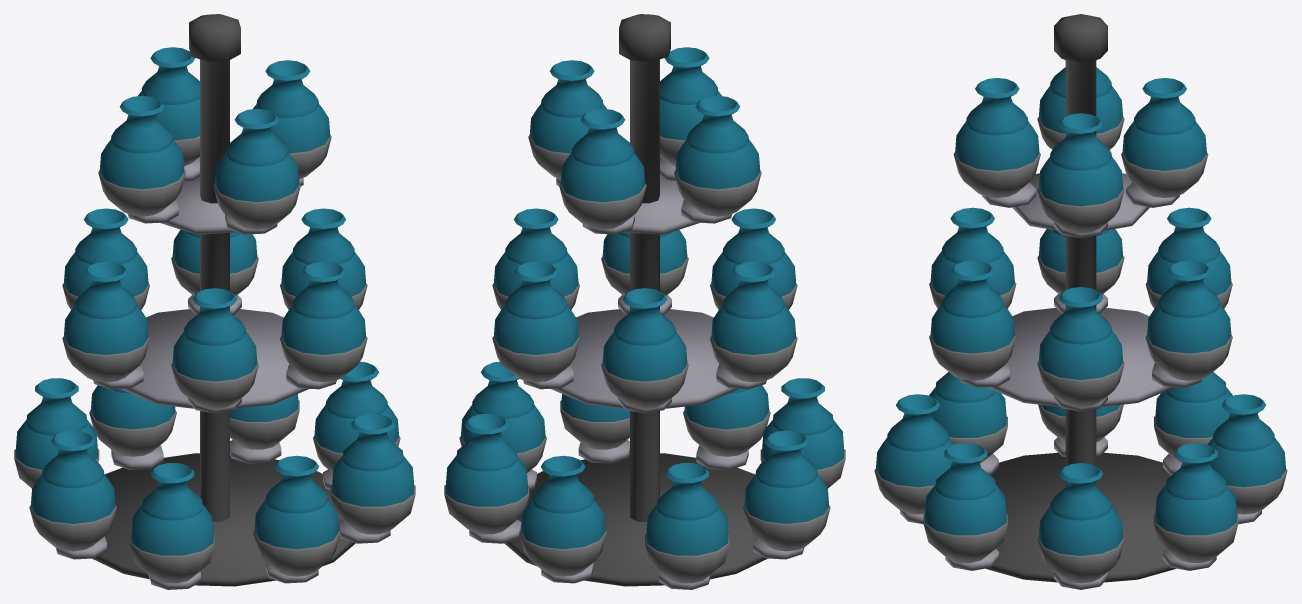
The model's file is GB_089_magic.glb.
3 renders of one model, left to right at view 1: azimuth 30°, elevation 25°; view 2: azimuth 150°, elevation 25°; view 3: azimuth 270°, elevation 25°, orthographic.
Parts seen in each view (by area): view 1: Holder_Magic, Magic_Bottle.017, Magic_Bottle.004, Magic_Bottle.009, Magic_Bottle.011, Magic_Bottle.014, Magic_Bottle.002, Magic_Bottle.010, Magic_Bottle.003, Magic_Bottle.001, Magic_Bottle.016, Magic_Bottle.005 (+7 smaller); view 2: Holder_Magic, Magic_Bottle.015, Magic_Bottle.004, Magic_Bottle.011, Magic_Bottle.013, Magic_Bottle.014, Magic_Bottle.006, Magic_Bottle.012, Magic_Bottle.005, Magic_Bottle.007, Magic_Bottle.016, Magic_Bottle.003 (+7 smaller); view 3: Holder_Magic, Magic_Bottle.009, Magic_Bottle.013, Magic_Bottle.016, Magic_Bottle.008, Magic_Bottle.017, Magic_Bottle, Magic_Bottle.015, Magic_Bottle.001, Magic_Bottle.007, Magic_Bottle.002, Magic_Bottle.006 (+7 smaller).
Boxes of the visible parts, <box> form: Holder_Magic: <box>55,14,390,589</box>; Magic_Bottle.017: <box>213,108,300,229</box>; Magic_Bottle.004: <box>29,430,116,551</box>; Magic_Bottle.009: <box>280,261,367,382</box>; Magic_Bottle.011: <box>62,261,149,382</box>; Magic_Bottle.014: <box>98,95,185,216</box>; Magic_Bottle.002: <box>253,455,340,576</box>; Magic_Bottle.010: <box>171,288,258,408</box>; Magic_Bottle.003: <box>130,463,214,583</box>; Magic_Bottle.001: <box>330,414,415,534</box>; Magic_Bottle.016: <box>253,60,331,179</box>; Magic_Bottle.005: <box>14,378,99,488</box>; Holder_Magic: <box>469,14,804,589</box>; Magic_Bottle.015: <box>559,108,646,229</box>; Magic_Bottle.004: <box>743,430,830,551</box>; Magic_Bottle.011: <box>710,261,797,382</box>; Magic_Bottle.013: <box>492,261,579,382</box>; Magic_Bottle.014: <box>674,95,761,216</box>; Magic_Bottle.006: <box>519,455,606,576</box>; Magic_Bottle.012: <box>601,288,688,408</box>; Magic_Bottle.005: <box>645,463,729,583</box>; Magic_Bottle.007: <box>444,414,529,534</box>; Magic_Bottle.016: <box>528,60,606,179</box>; Magic_Bottle.003: <box>760,378,845,488</box>; Holder_Magic: <box>900,14,1261,589</box>; Magic_Bottle.009: <box>929,260,1016,380</box>; Magic_Bottle.013: <box>1145,260,1232,380</box>; Magic_Bottle.016: <box>1037,113,1124,233</box>; Magic_Bottle.008: <box>1037,287,1124,407</box>; Magic_Bottle.017: <box>953,78,1040,197</box>; Magic_Bottle: <box>1037,463,1124,583</box>; Magic_Bottle.015: <box>1121,78,1208,197</box>; Magic_Bottle.001: <box>923,443,1007,562</box>; Magic_Bottle.007: <box>1154,443,1238,562</box>; Magic_Bottle.002: <box>874,394,953,514</box>; Magic_Bottle.006: <box>1208,394,1287,514</box>.
Bounding box in the file's own units: 0.8608 × 1.15 × 0.8608.
